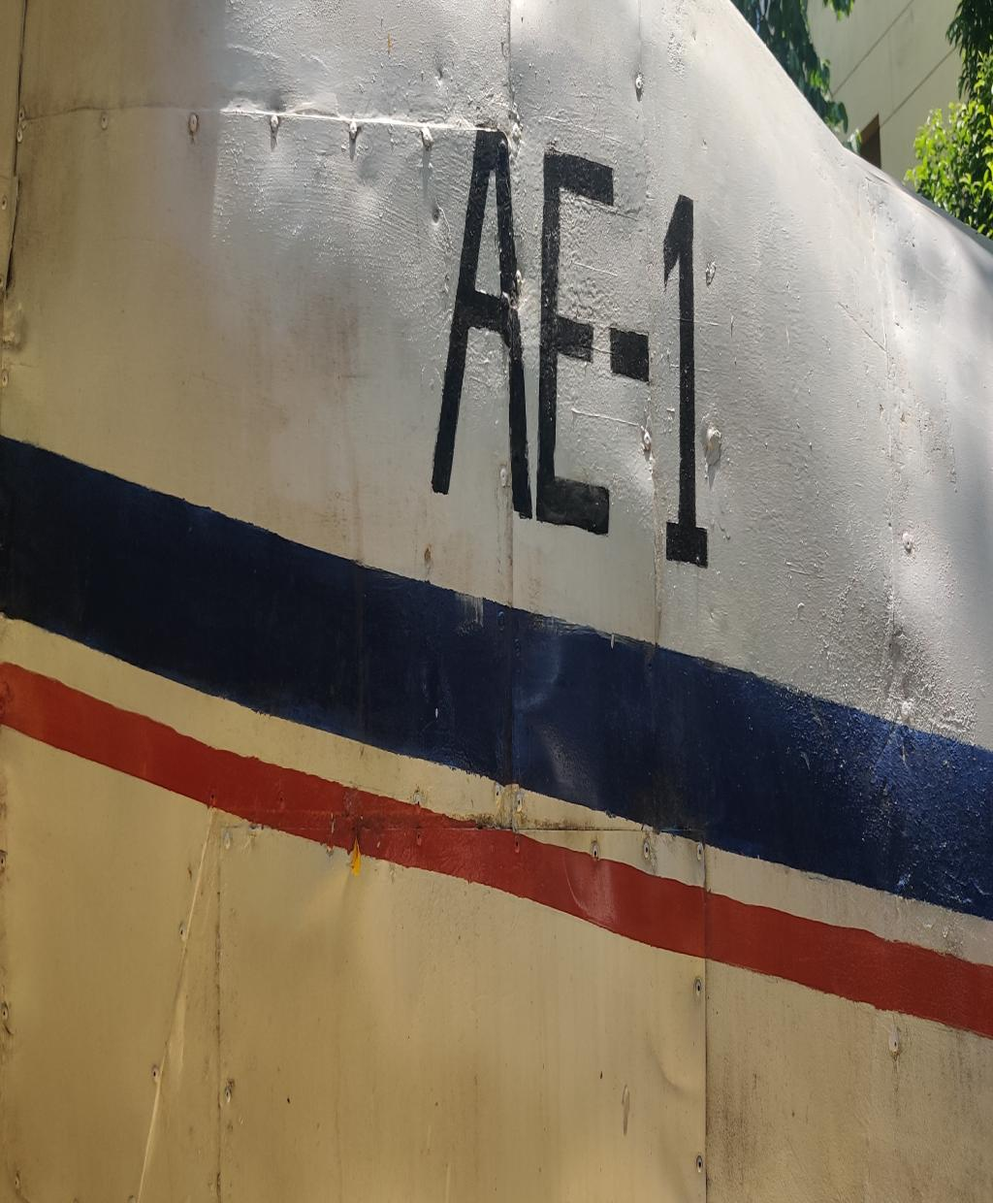dent: (868, 587, 933, 761), (647, 987, 700, 1119)
